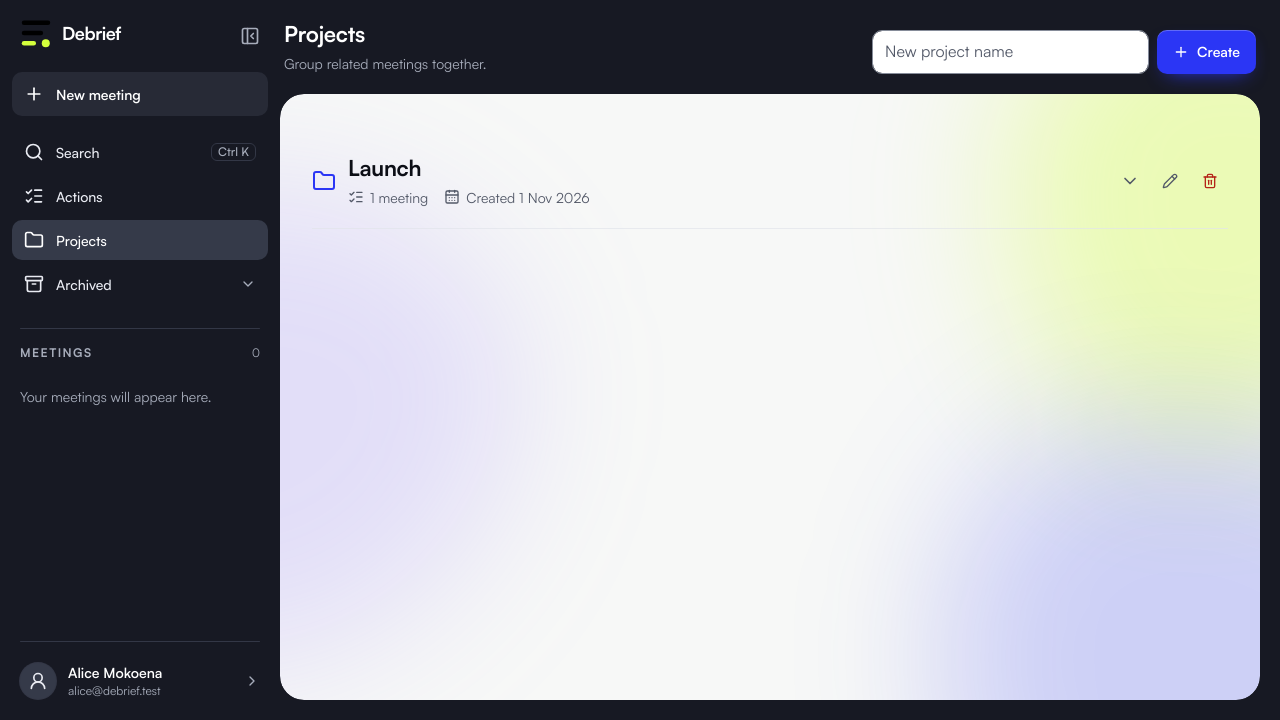
Test case: expands a large project row and lets its name be edited or deleted
Expected: the text "1 meeting" is shown, [348,187,428,208]
Expected: the text "Created 1 Nov 2026" is shown, [444,187,590,208]
Click the button with aria-label "Expand Launch meetings" at x=385, y=168, box [312,154,1140,208]
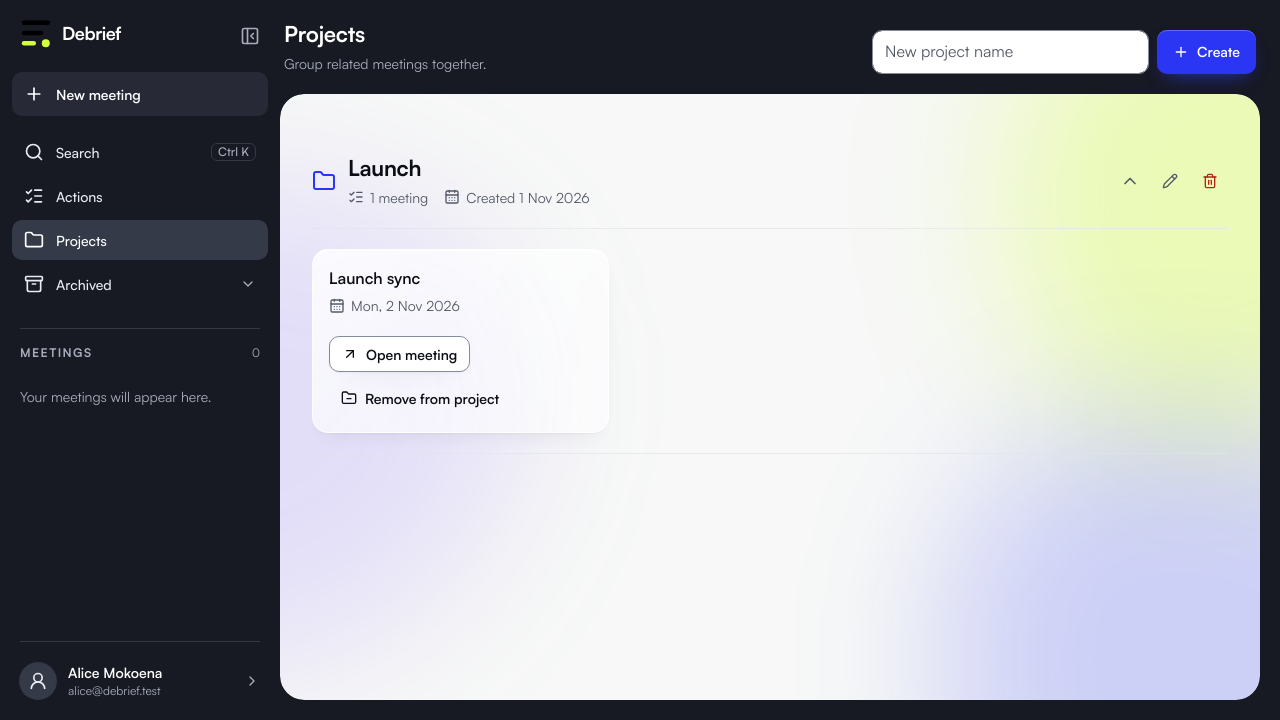
Expected: the button with aria-label "Collapse Launch meetings" is expanded, [312,154,1140,208]
Expected: the heading "Launch sync" is shown, [329,268,420,288]
Click the button named "Edit name of Launch" at x=1170, y=181, box [1152,163,1188,199]
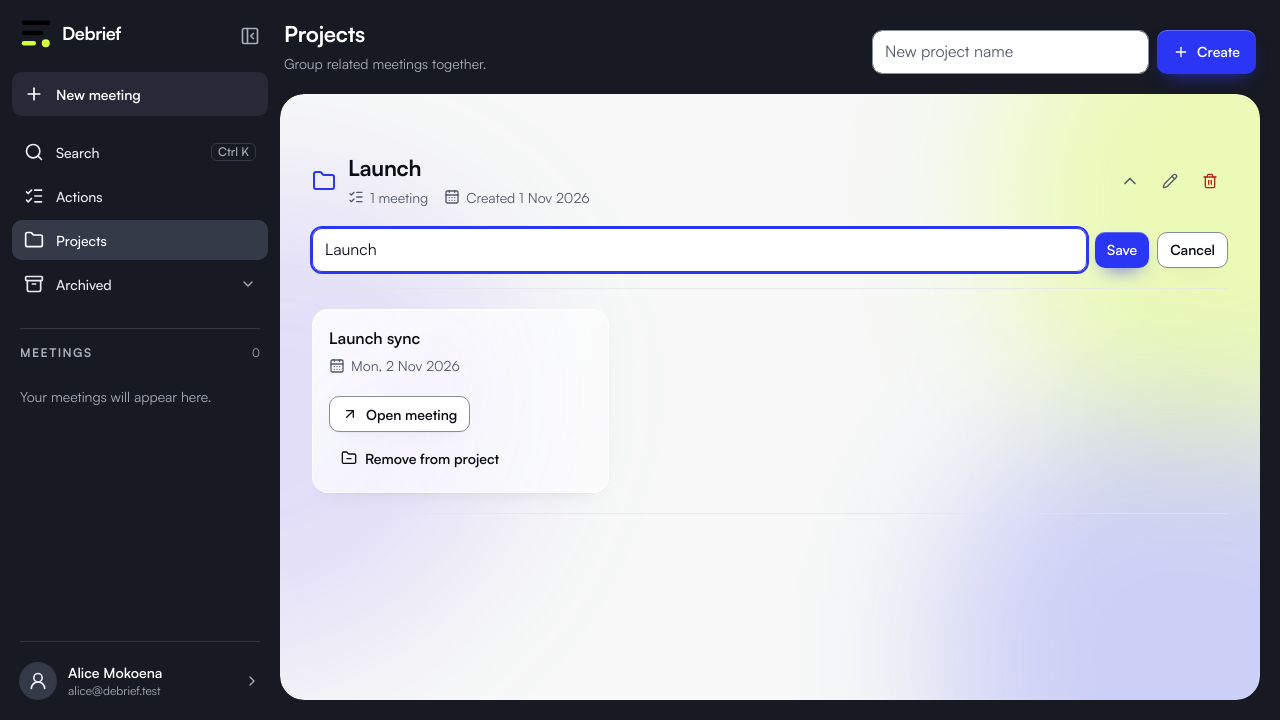
Replace the text in the field named "New name for Launch" with "Release" at x=700, y=250, box [312,228,1087,272]
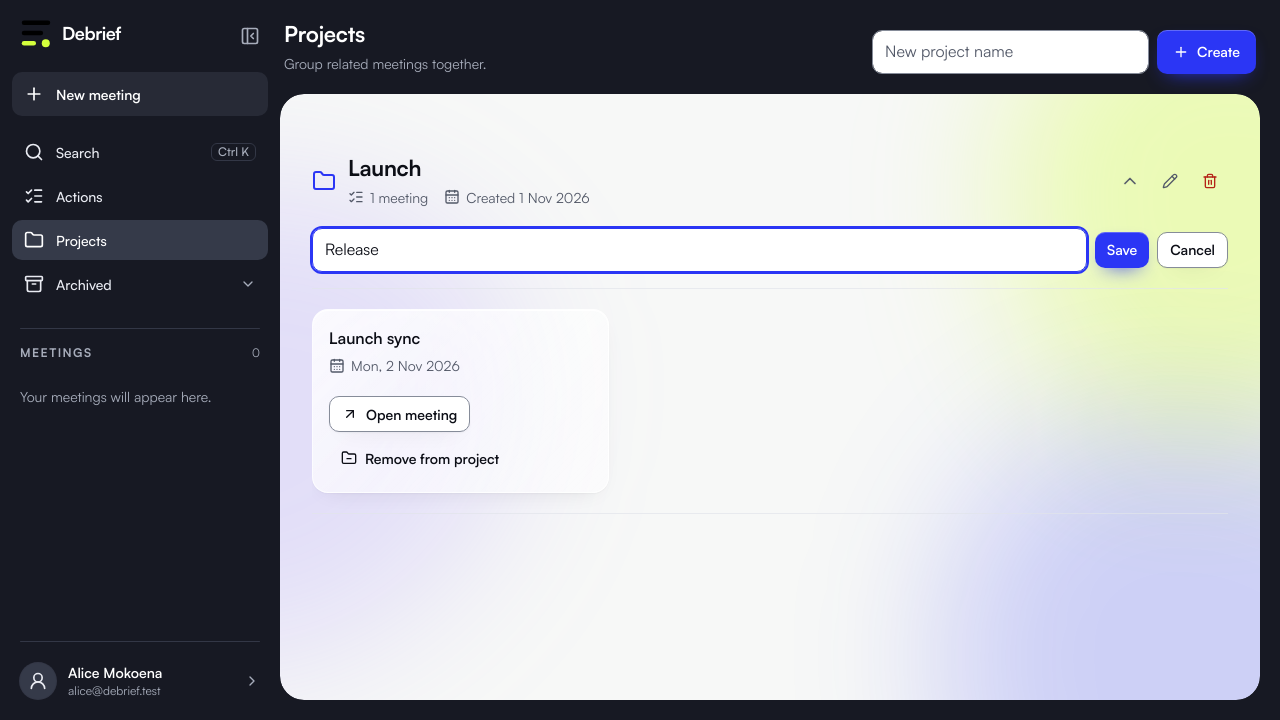
Click the button "Save" at x=1122, y=250, box [1095,232,1149,268]
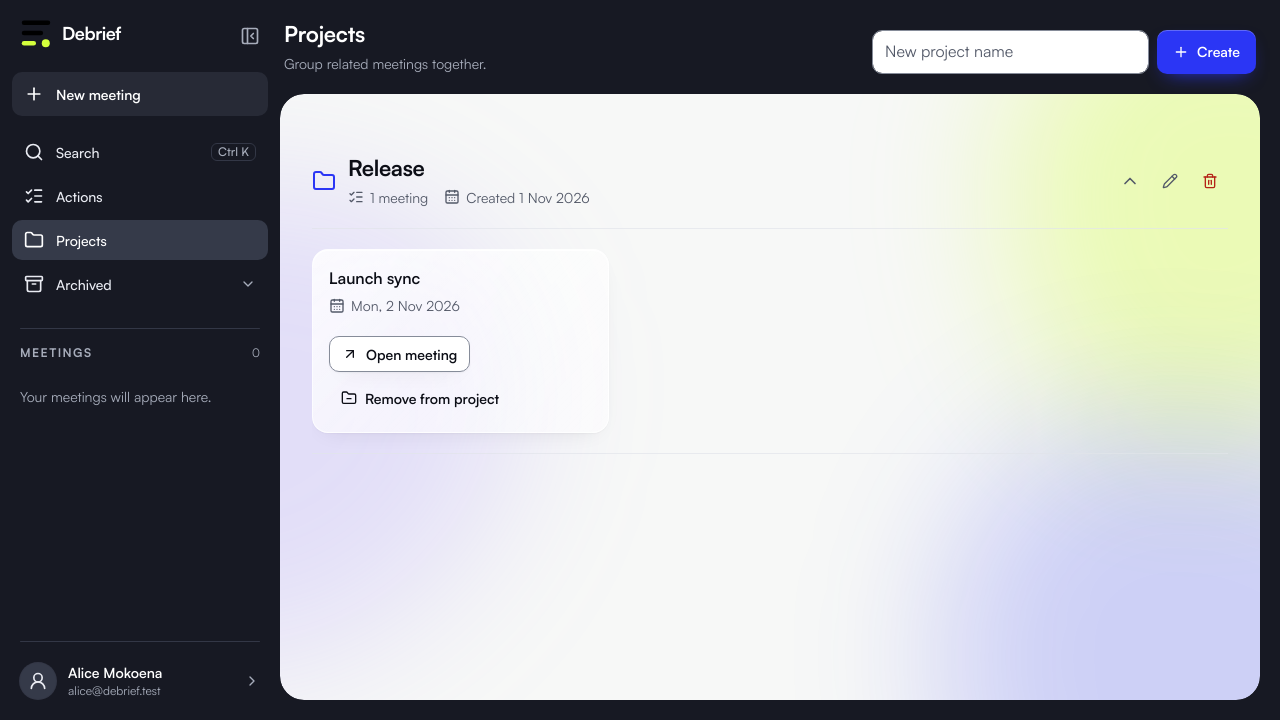
Expected: the element "Release" is shown, [312,134,1228,454]
Click the button named "Delete Release" at x=1210, y=181, box [1192,163,1228,199]
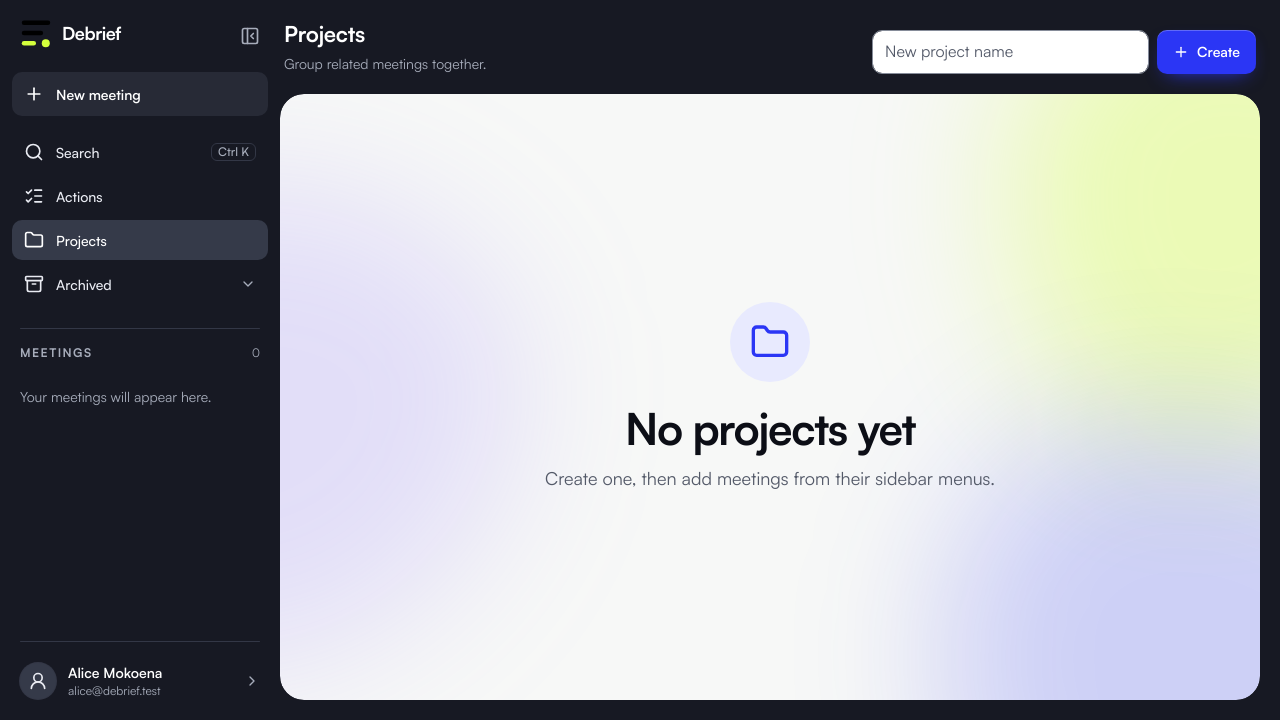
Expected: the heading "No projects yet" is shown, [625,406,915,453]
